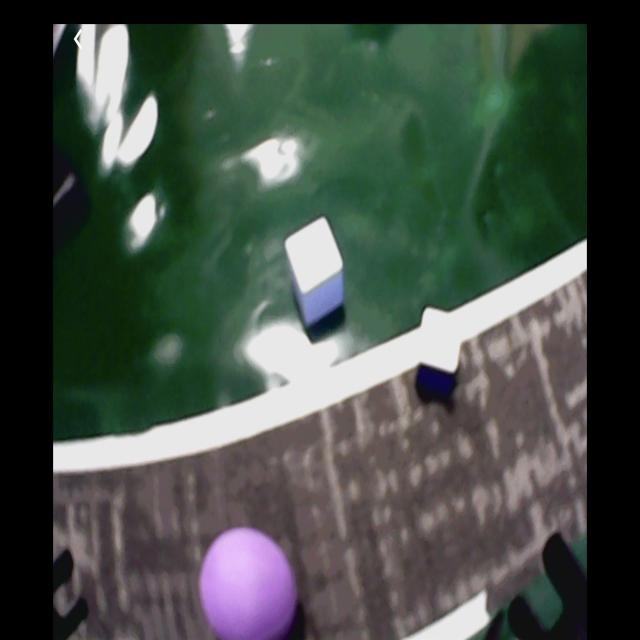ball: (203, 527, 296, 640)
